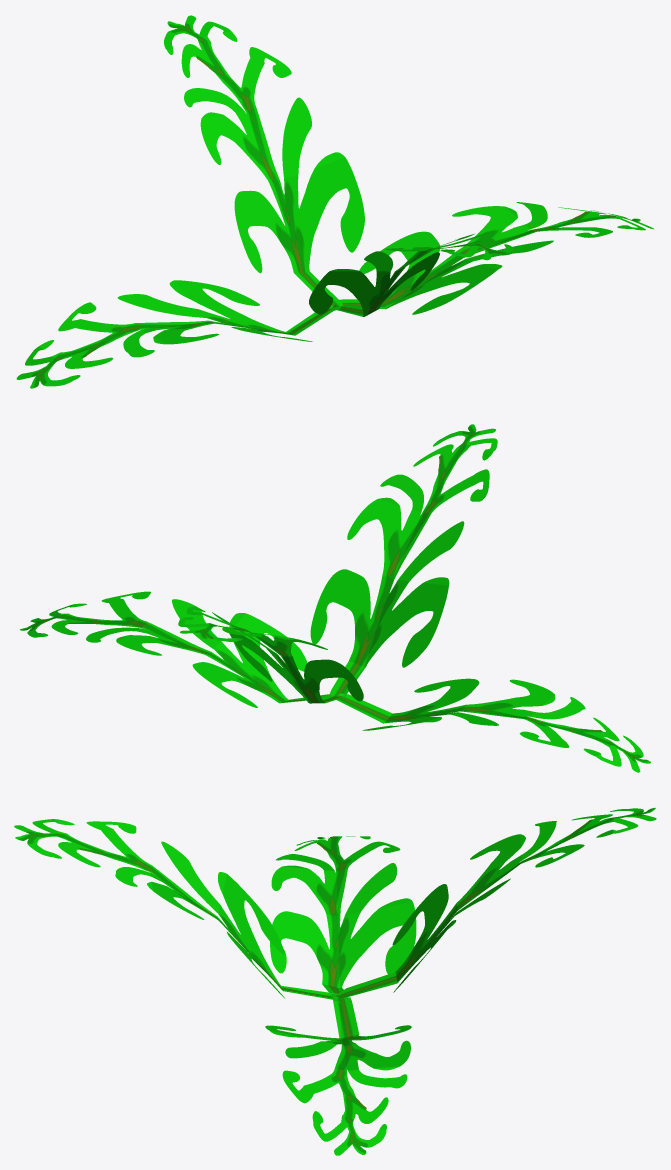
The picture shows the model from 3 angles, top to bottom: view 1: azimuth 30°, elevation 25°; view 2: azimuth 150°, elevation 25°; view 3: azimuth 270°, elevation 25°; orthographic projection. The views are drawn at different scales.
Visible parts, largest first — view 1: Plane; view 2: Plane; view 3: Plane.
Part boxes in pixels (x1,y1,x2,y2): Plane: (16, 15, 653, 388); Plane: (20, 424, 650, 772); Plane: (14, 807, 656, 1155).
Size of the model in its own units: 855 by 248 by 729.
1 material, 1 textured.
